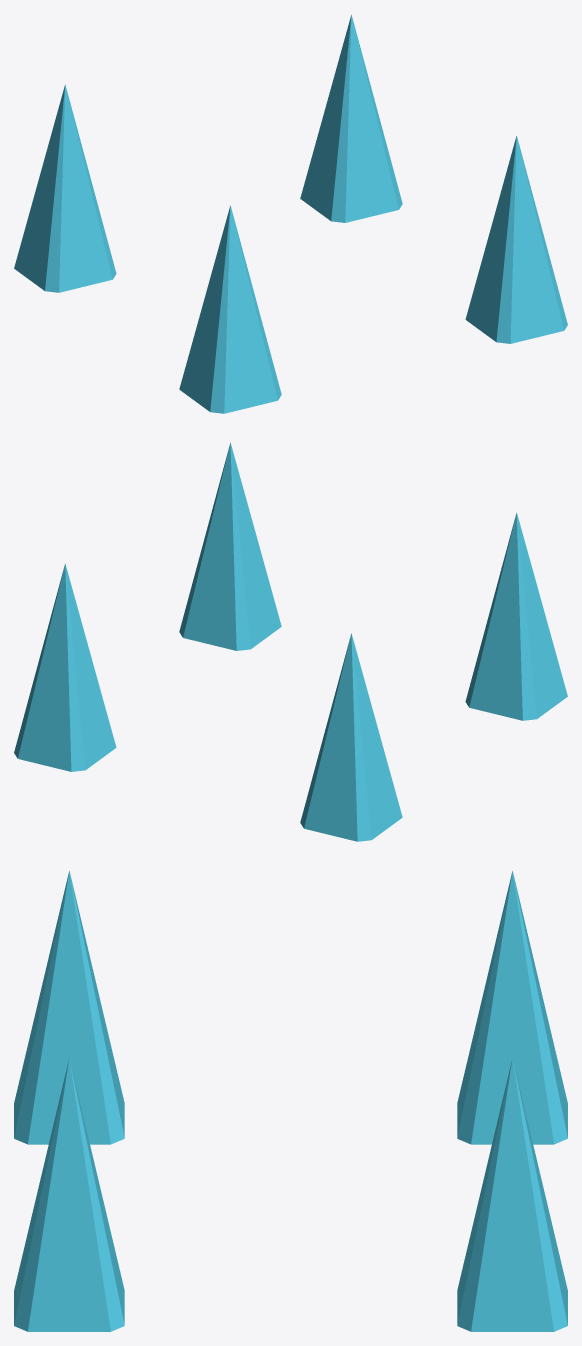
File: CrystalBase.fbx
3 renders of one model, top to bottom at view 1: azimuth 30°, elevation 25°; view 2: azimuth 150°, elevation 25°; view 3: azimuth 270°, elevation 25°, orthographic. The views are drawn at different scales.
Parts seen in each view (by area): view 1: mergedBlocks; view 2: mergedBlocks; view 3: mergedBlocks.
Part boxes in pixels (x1,y1,x2,y2): mergedBlocks: (14,14,567,413); mergedBlocks: (14,442,567,841); mergedBlocks: (14,871,567,1331).
Bounding box in the file's own units: 10 × 5 × 10.
